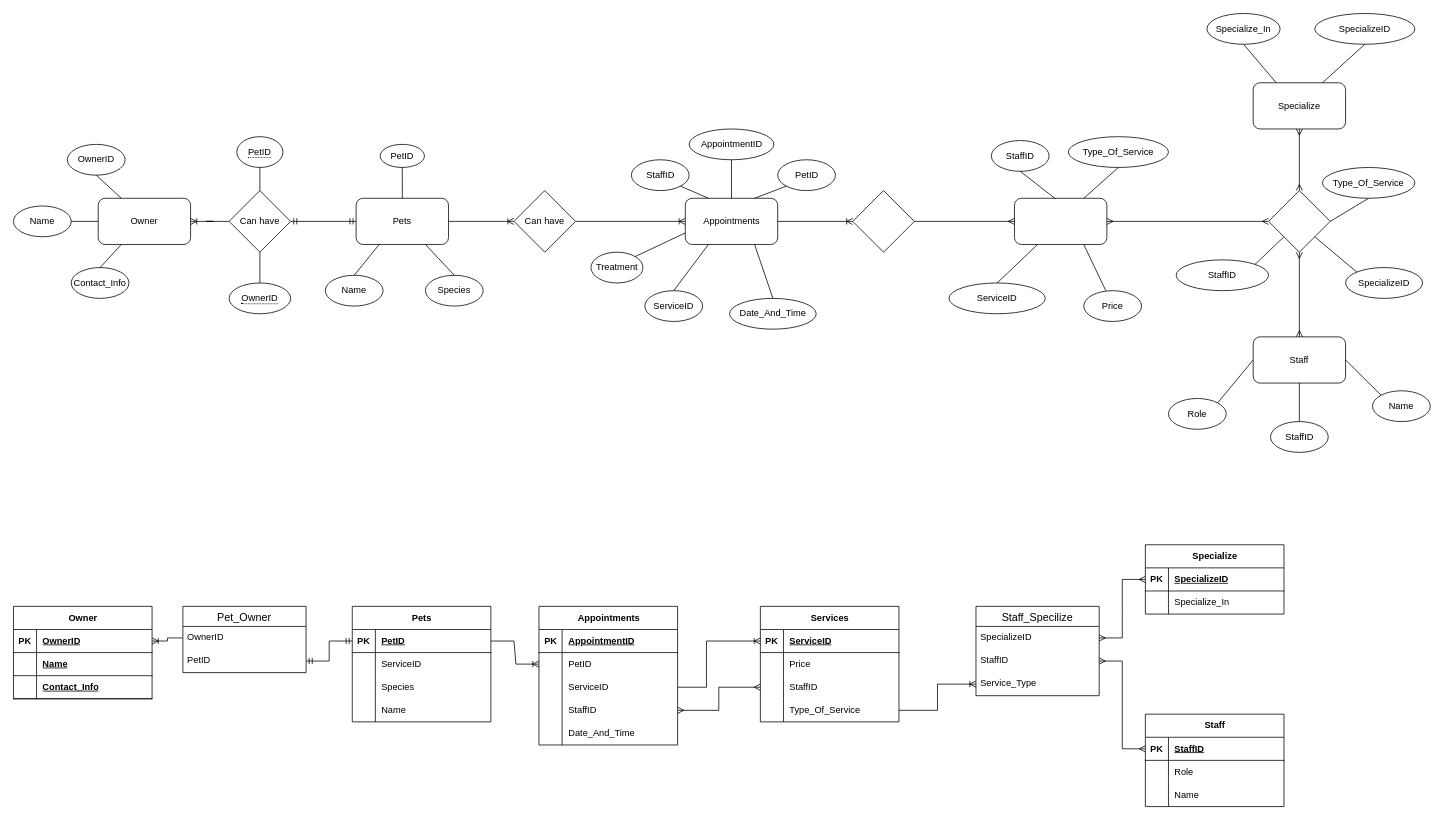
Some shapes in this 1444 by 820 pixel diagram are drawn without their labels. The shapes that lost their labels are listed below. From the top down, each one's centre as x and y in pixels, then its label:
At (x=883, y=221): "Have".
At (x=1060, y=221): "Service".
At (x=1299, y=221): "Can be".
